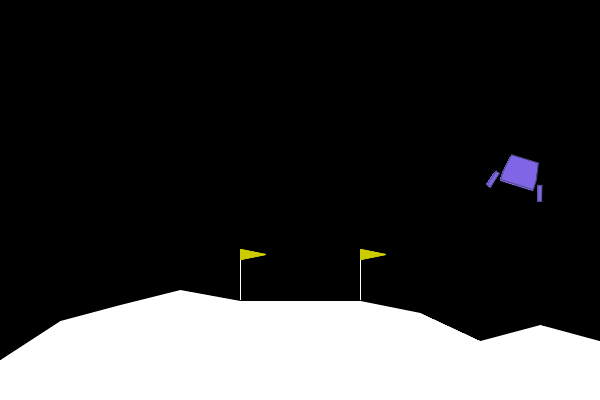lander: (485, 148, 554, 204)
